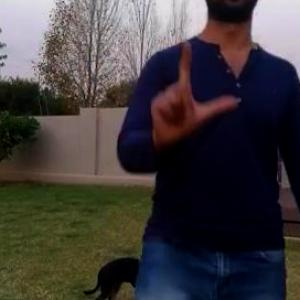land_hand: (149, 35, 240, 139)
